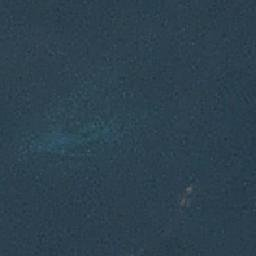debris: (178, 186, 191, 208)
